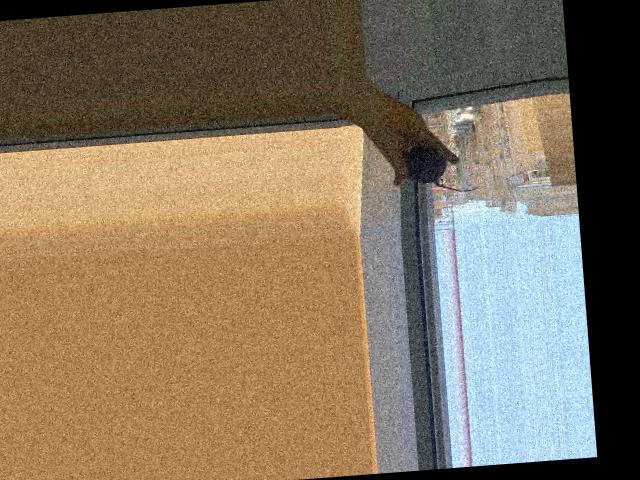beet: (405, 141, 481, 196)
